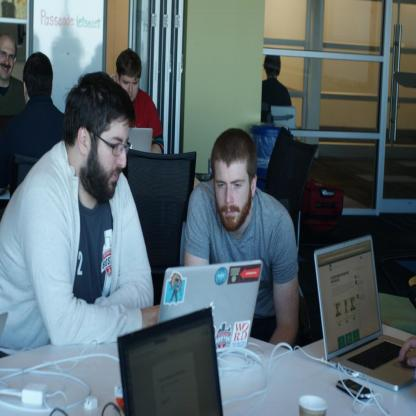board: (313, 234, 416, 392), (118, 307, 224, 416), (158, 260, 262, 349), (130, 127, 152, 151)
